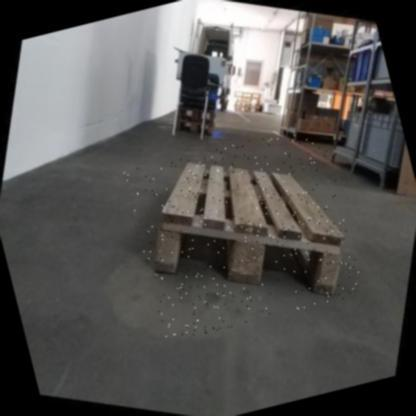pallet: (159, 161, 341, 291)
